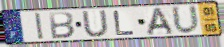A: (145, 7, 176, 37)
B: (49, 11, 77, 40)
I: (33, 12, 46, 41)
L: (112, 10, 137, 37)
U: (170, 4, 202, 36), (80, 9, 111, 38)
